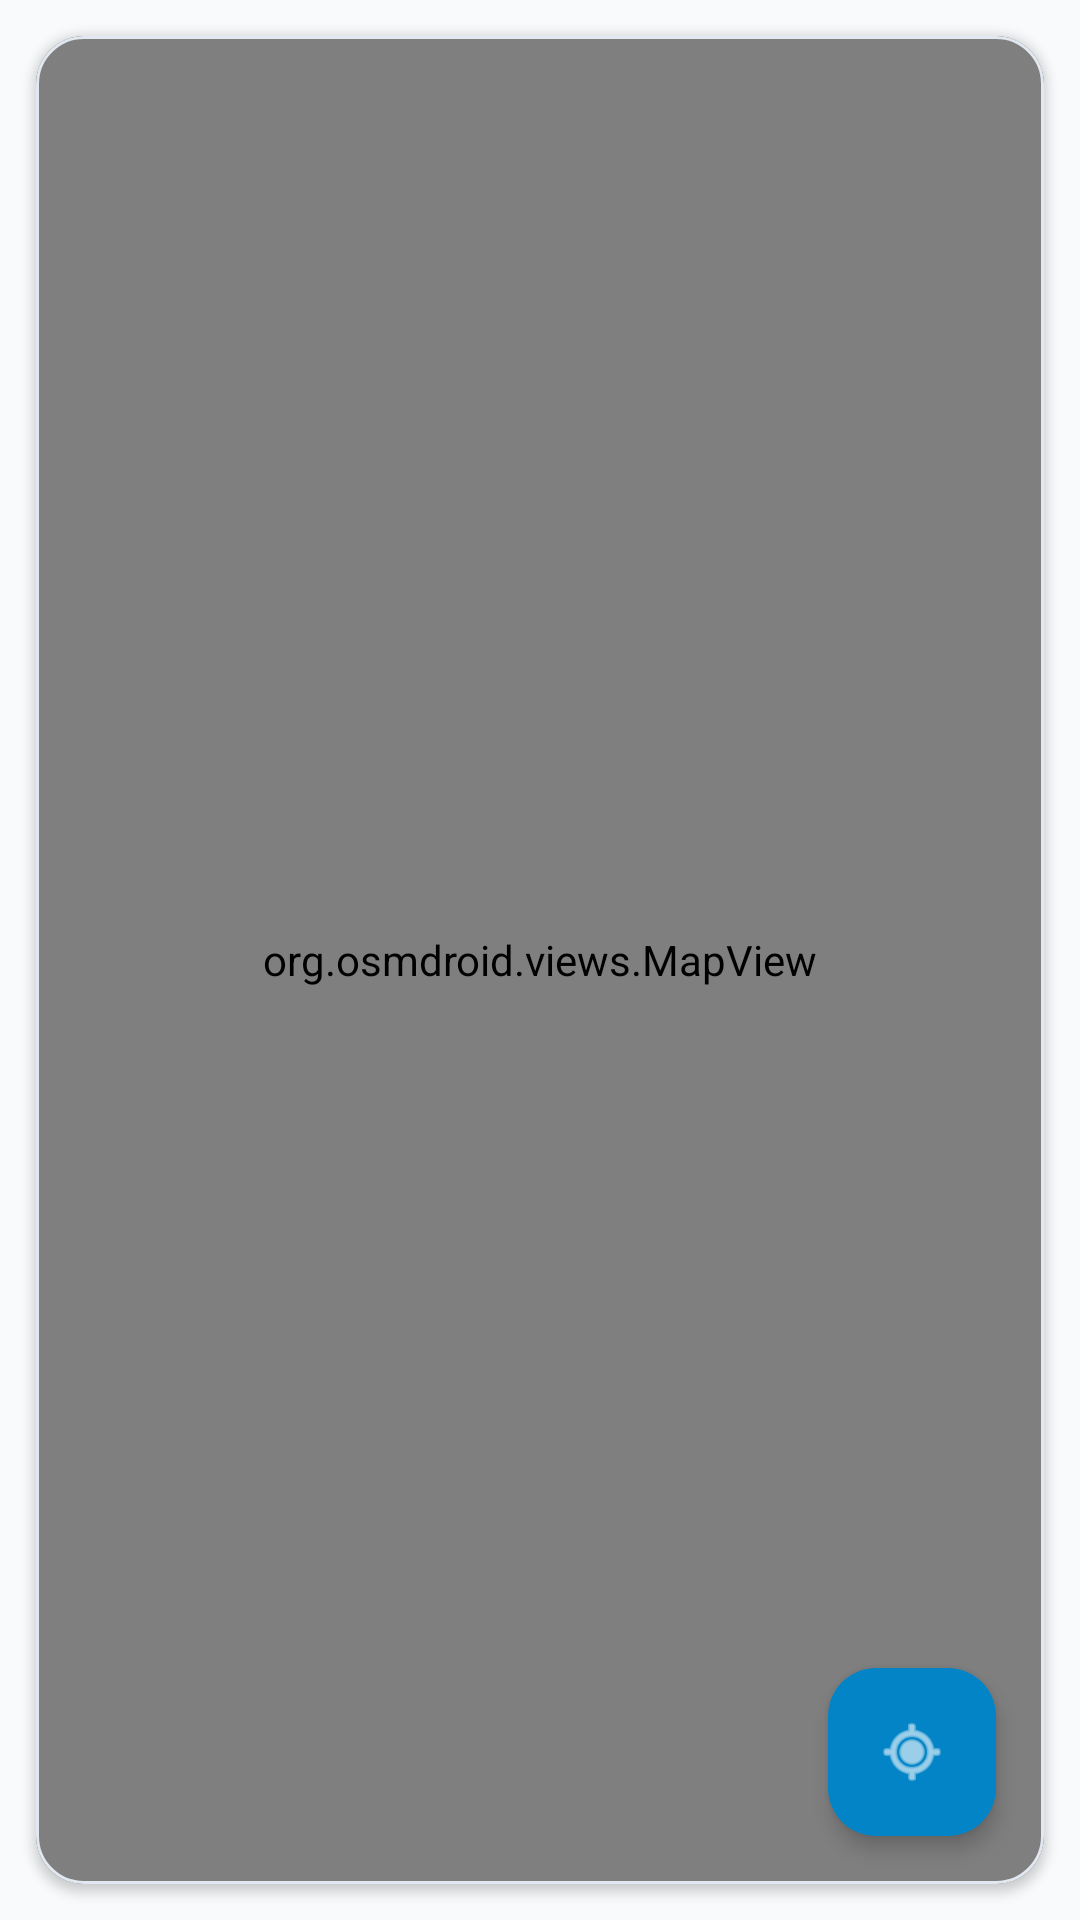

Locate icon controls on the screen. Image size 1080*1920, boxes as (x1, y1, x2, y2).
UBICAR: (828, 1668, 996, 1836)
